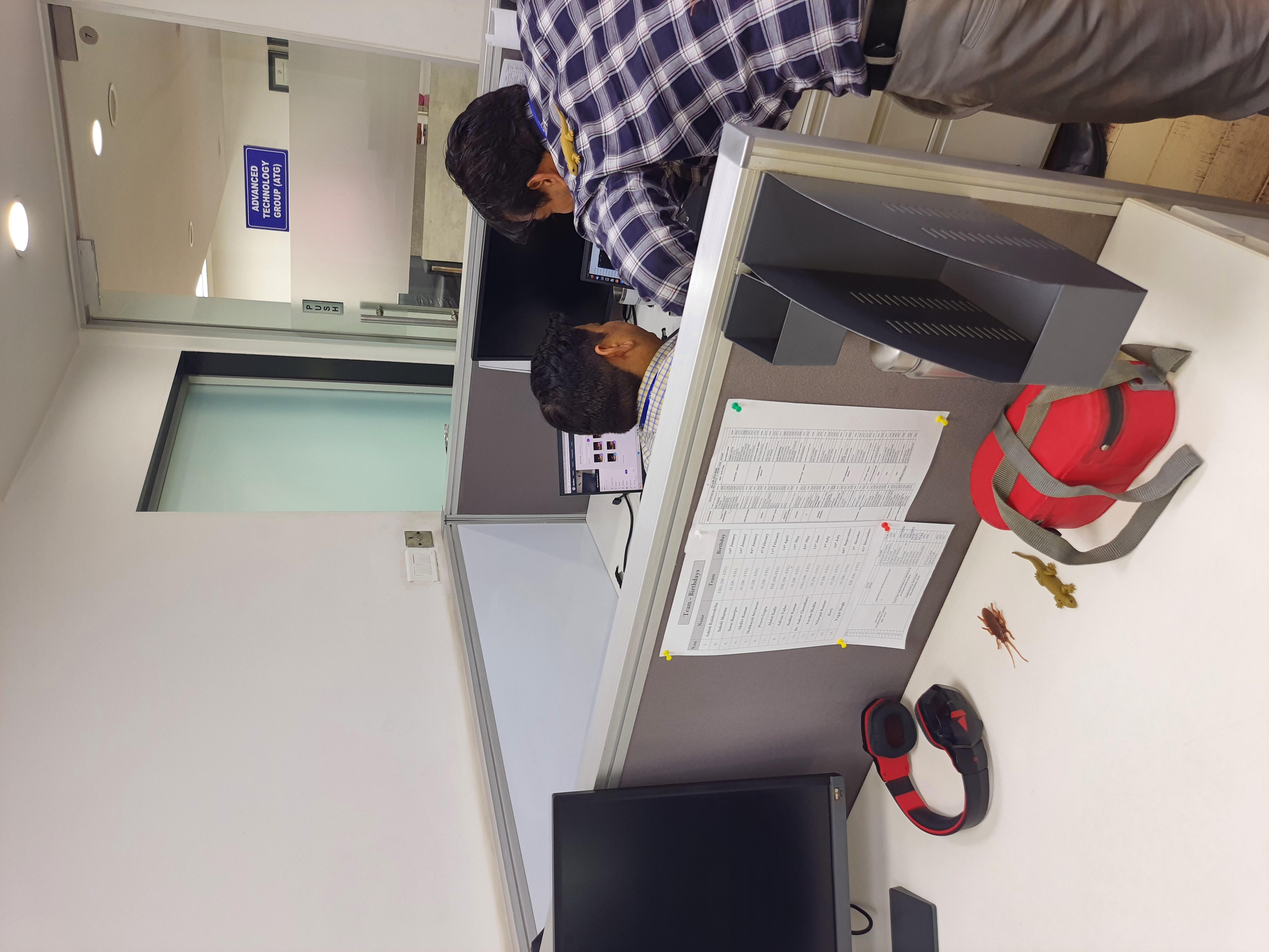cockroach: (346, 713, 480, 773)
lizard: (413, 756, 548, 817), (1018, 408, 1130, 445)
